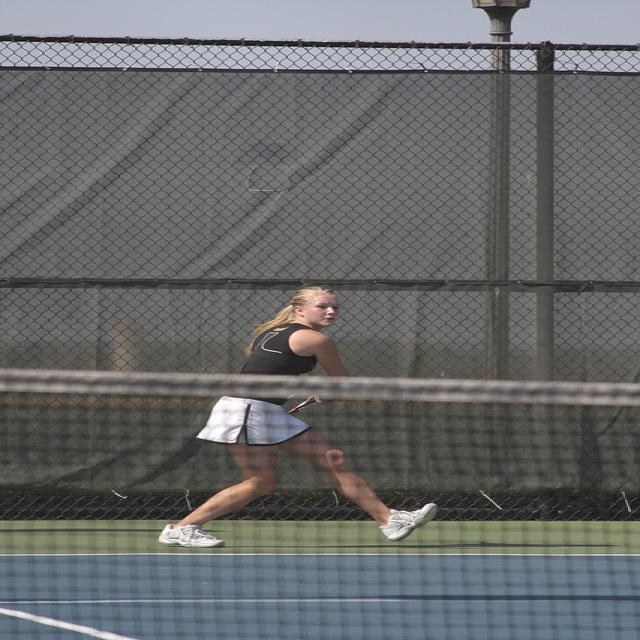non-dog: (156, 285, 440, 552)
